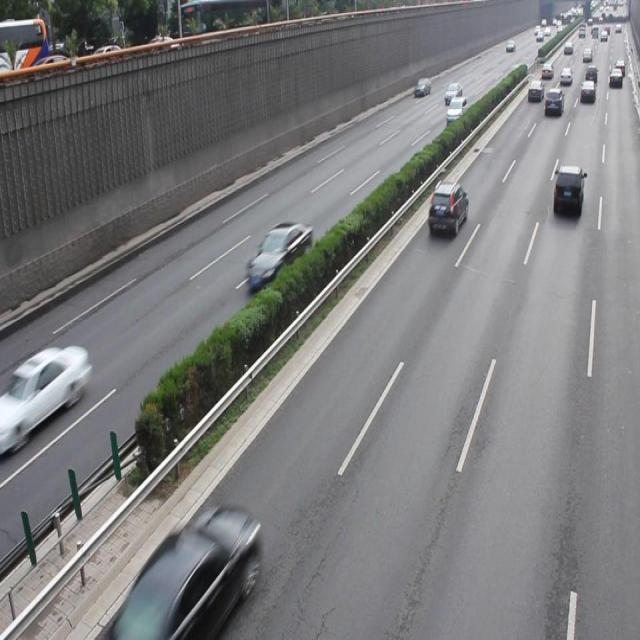car: (116, 503, 260, 640), (0, 343, 89, 452), (245, 220, 313, 287), (427, 180, 469, 237), (551, 162, 582, 217)
